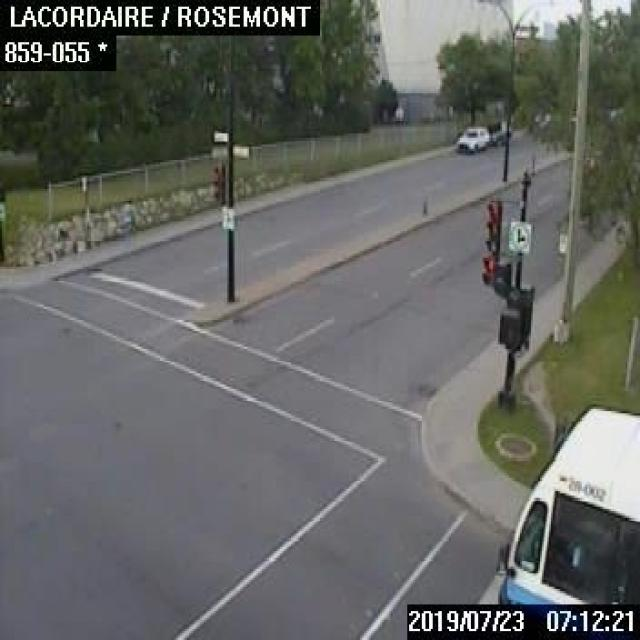bus: (491, 404, 638, 602)
vehicle: (454, 125, 488, 151), (485, 119, 511, 144)
